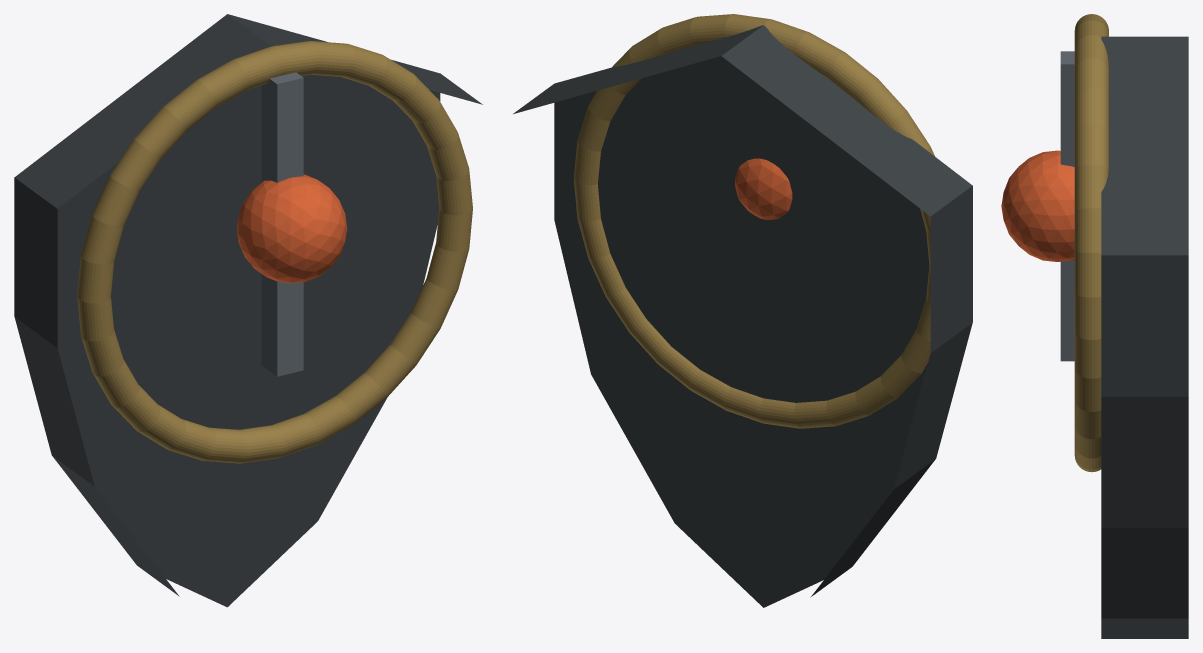
File: shield.glb
3 views of the same model, side by side, from view 1: azimuth 30°, elevation 25°; view 2: azimuth 150°, elevation 25°; view 3: azimuth 270°, elevation 25° (orthographic). The views are drawn at different scales.
Visible parts, largest first — view 1: shield_0, shield_1, shield_3, shield_2; view 2: shield_0, shield_1, shield_3; view 3: shield_0, shield_1, shield_3, shield_2.
Boxes of the visible parts, x1,y1,x2,y2 form: shield_0: [14, 14, 482, 607]; shield_1: [77, 41, 472, 463]; shield_3: [236, 174, 347, 283]; shield_2: [261, 72, 303, 376]; shield_0: [513, 25, 972, 607]; shield_1: [573, 14, 934, 428]; shield_3: [735, 158, 792, 219]; shield_0: [1101, 36, 1188, 638]; shield_1: [1074, 14, 1108, 472]; shield_3: [1001, 150, 1074, 261]; shield_2: [1060, 51, 1074, 361].
Size of the model in its own units: 1.6 by 2.13 by 0.6.
